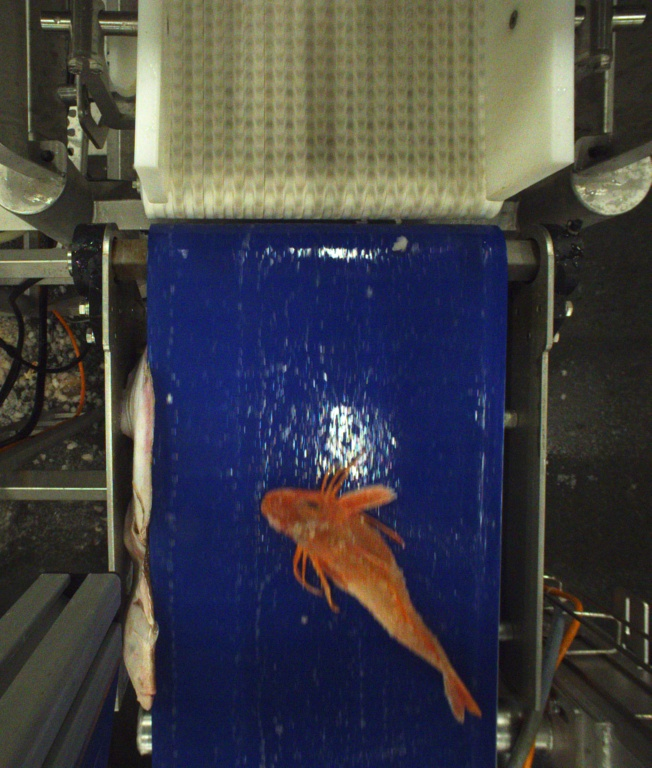GUU: (262, 456, 482, 726)
